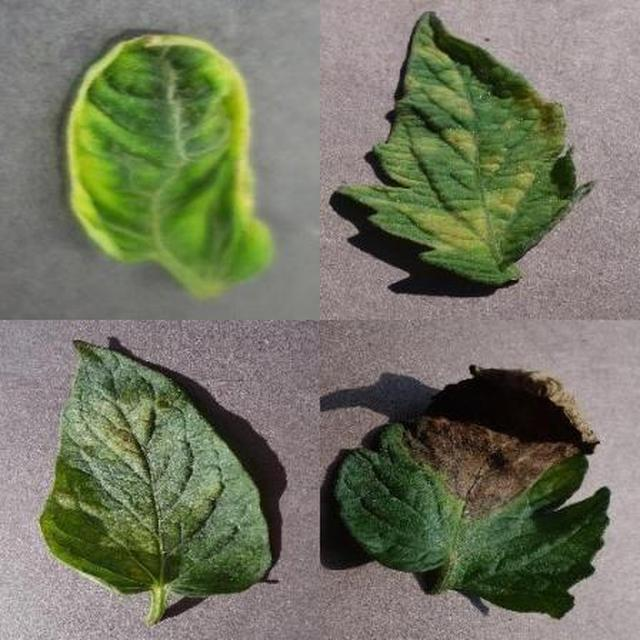Yellow Leaf Curl Virus: (224, 210, 640, 640)
